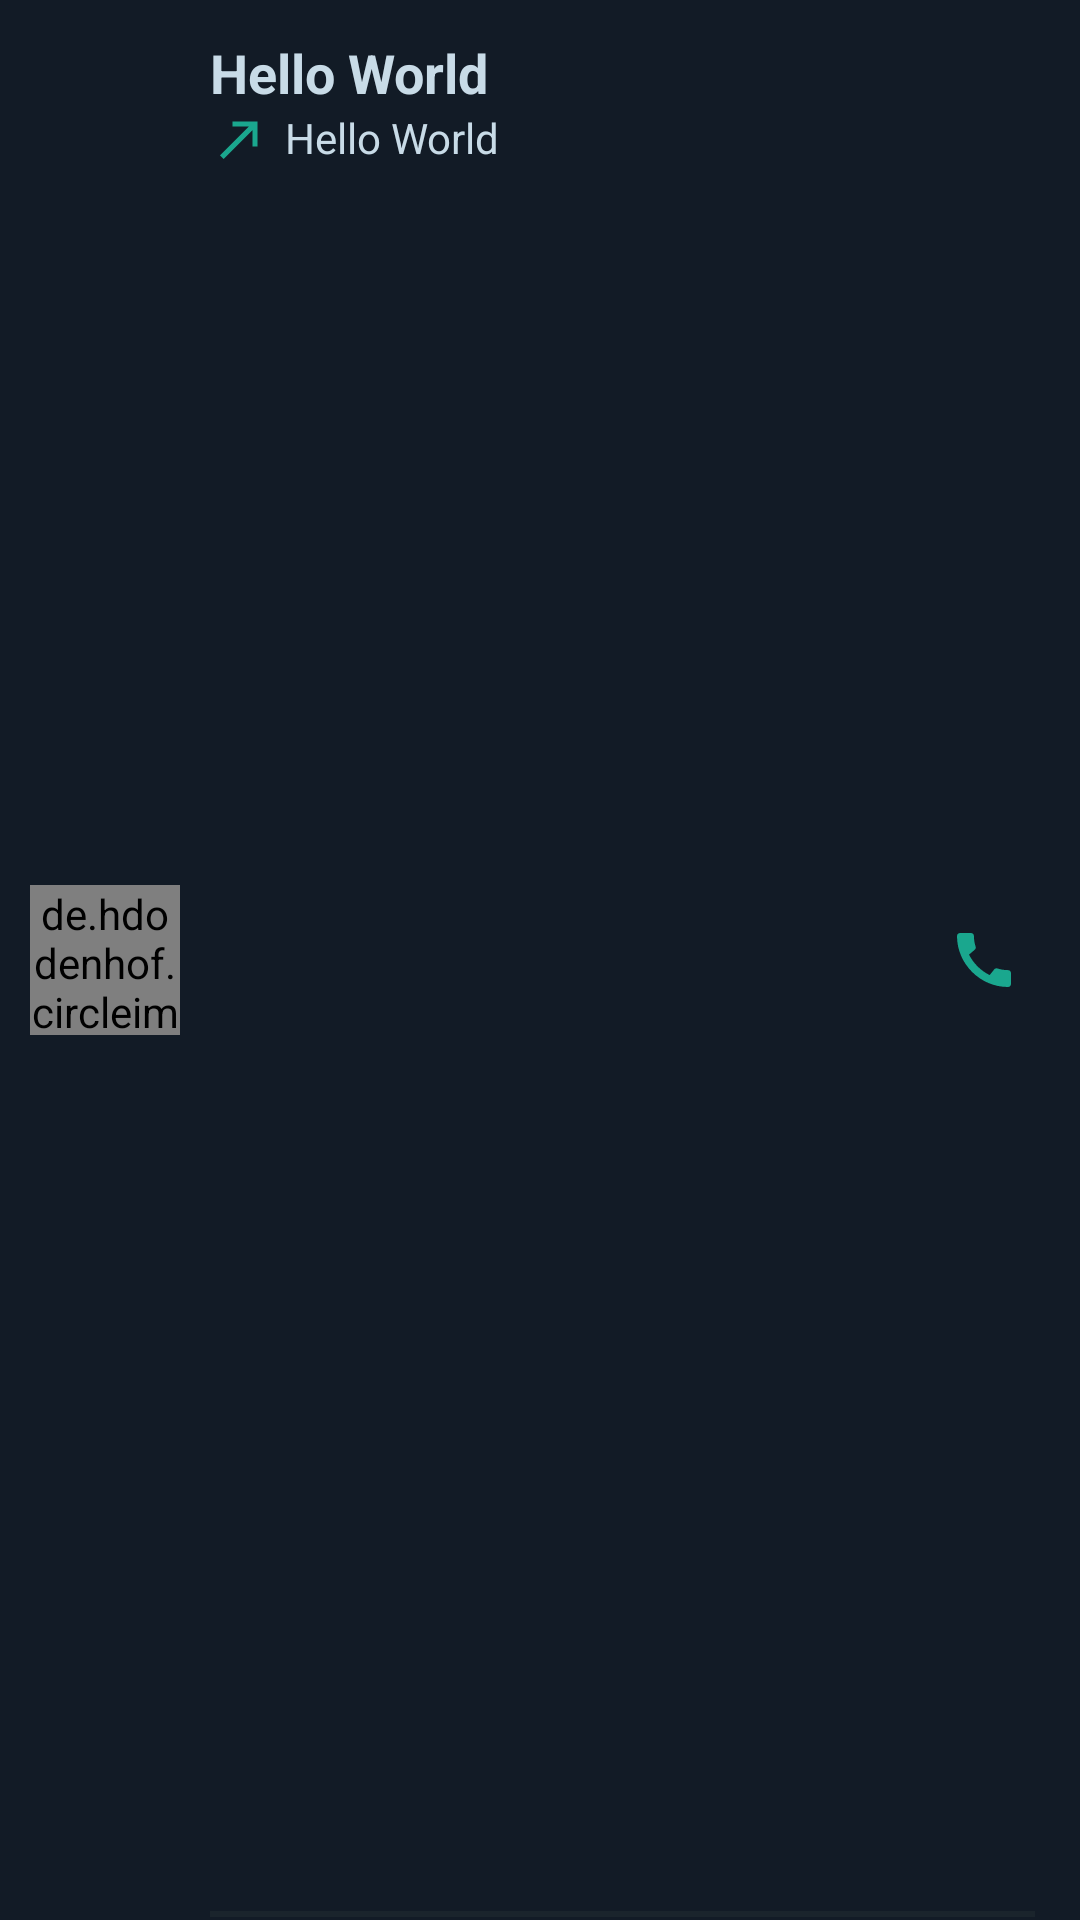

Named icons in this screenshot (1080x1920) and their bounding boxes, (x1, y1, x2, y2):
call: (957, 933, 1011, 987)
call made: (220, 121, 258, 159)
